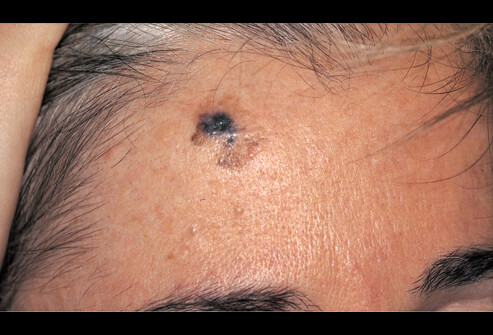melanoma: (183, 99, 273, 172)
